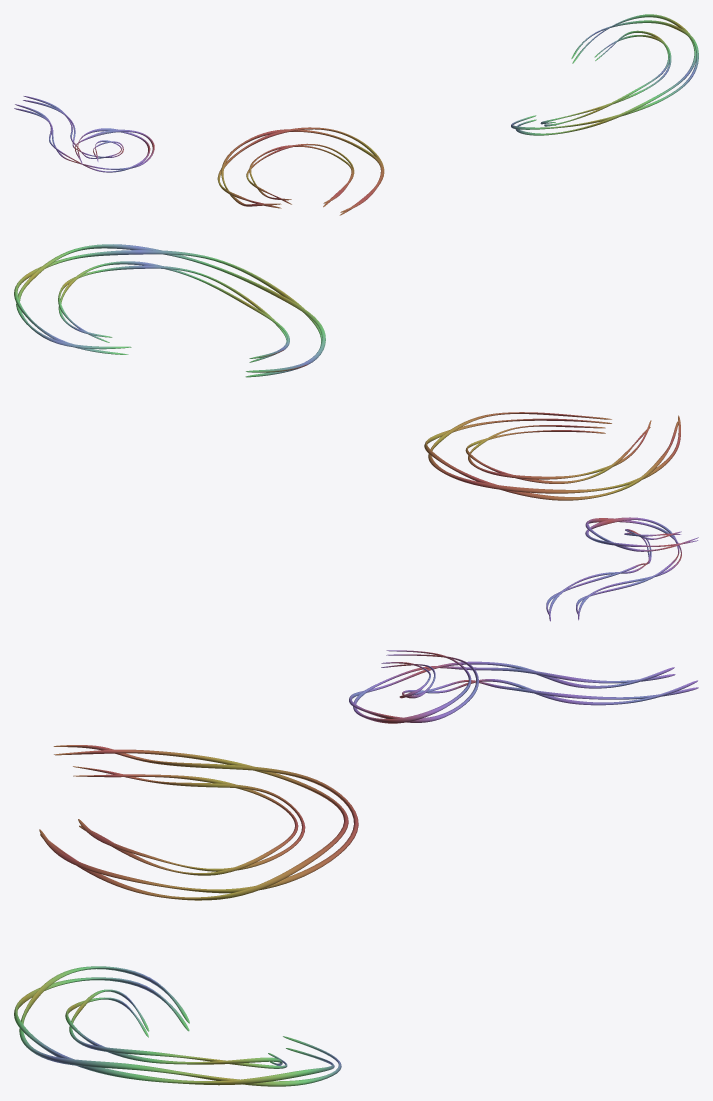
Rendered from tubes (1).fbx.
The picture shows the model from 3 angles, top to bottom: view 1: azimuth 30°, elevation 25°; view 2: azimuth 150°, elevation 25°; view 3: azimuth 270°, elevation 25°; orthographic projection. The views are drawn at different scales.
Visible parts, largest first — view 1: Cube.258, Cube.255, Cube.257; view 2: Cube.258, Cube.255, Cube.257; view 3: Cube.255, Cube.258, Cube.257.
Boxes of the visible parts, box(x1,y1,x2,y2) form: Cube.258: box(511, 14, 698, 135); Cube.255: box(217, 127, 384, 215); Cube.257: box(14, 96, 154, 172); Cube.258: box(14, 244, 325, 377); Cube.255: box(424, 412, 680, 500); Cube.257: box(546, 517, 698, 621); Cube.255: box(39, 745, 358, 900); Cube.258: box(14, 966, 341, 1086); Cube.257: box(349, 650, 698, 723).
Bounding box in the file's own units: 97808 × 10006 × 57690.
